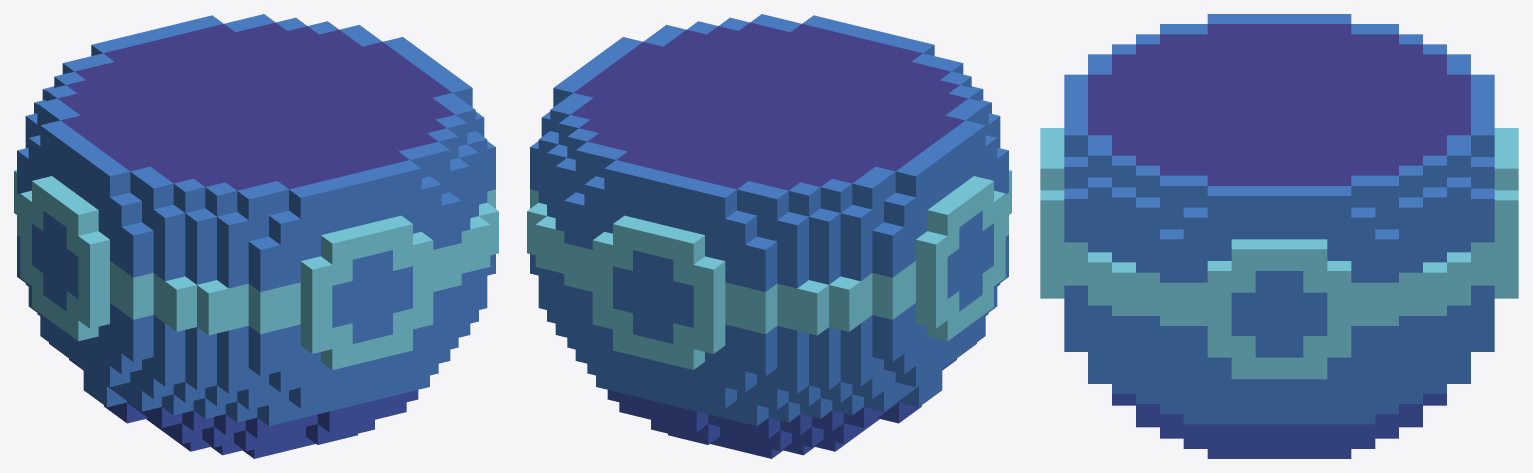
Rendered from teapot_5.obj.
The picture shows the model from 3 angles, left to right: view 1: azimuth 30°, elevation 25°; view 2: azimuth 150°, elevation 25°; view 3: azimuth 270°, elevation 25°; orthographic projection. The views are drawn at different scales.
Bounding box in the file's own units: 2 × 1.4 × 2.
Materials: 1 (1 with a texture image).
